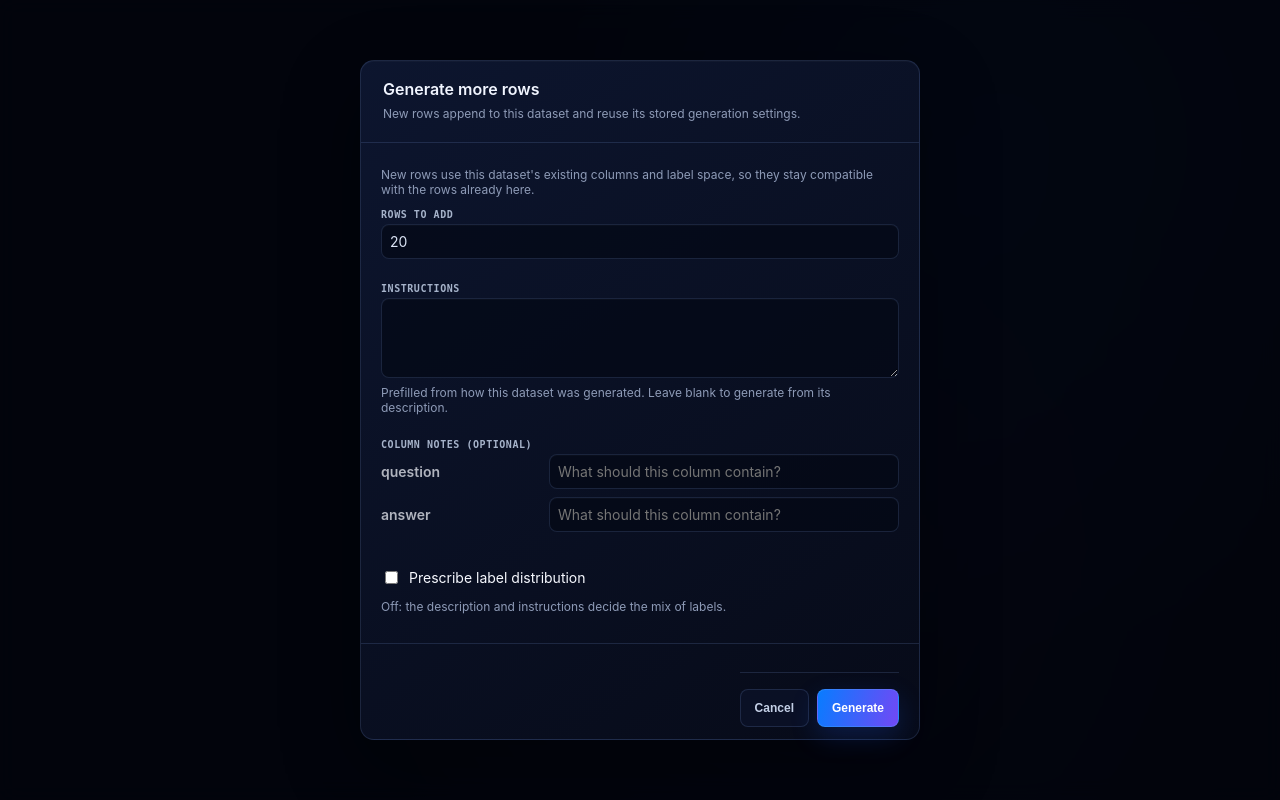
GenerateMoreRows › blocks Generate above the server's cap
Replace the text in the number field labelled "Rows to add" with "51" at (640, 241), box x1=381 y1=224 x2=899 y2=259
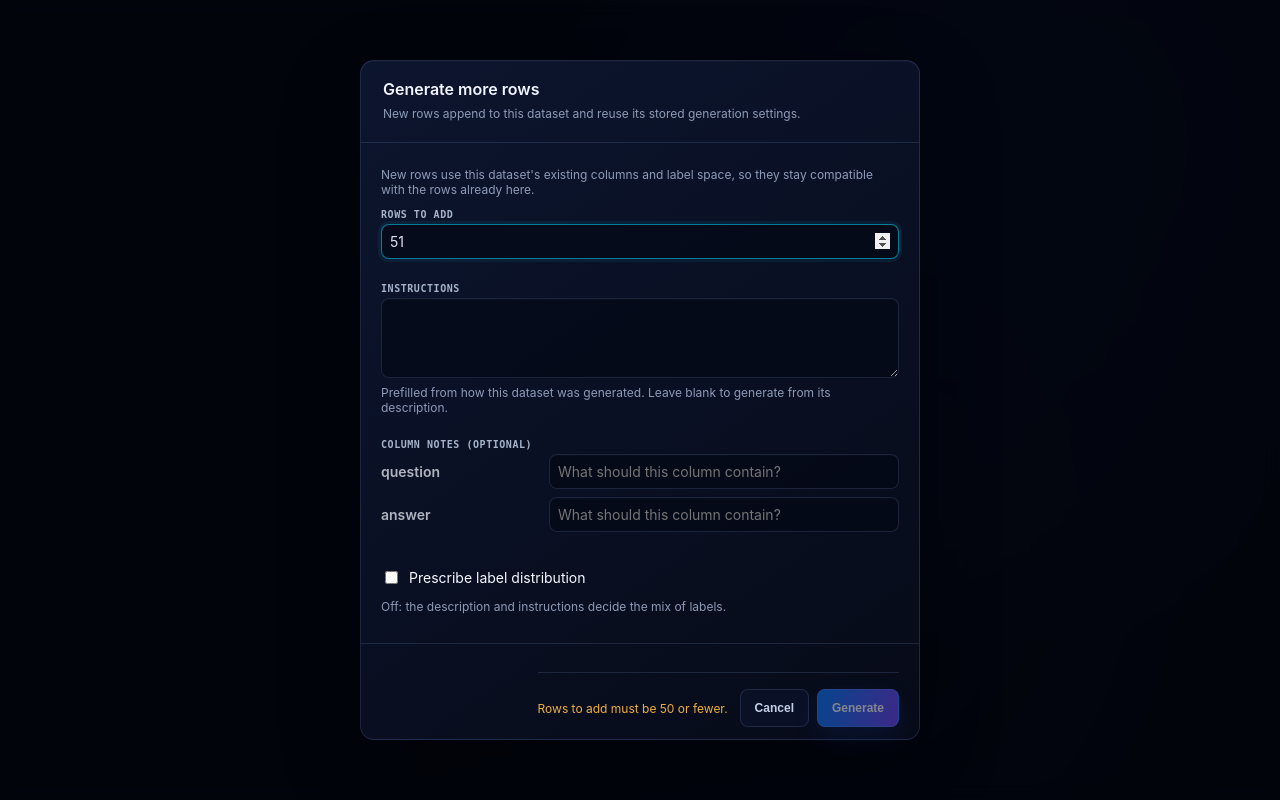
Check: the button "Generate" is disabled, box x1=817 y1=689 x2=899 y2=727
Check: the text "Rows to add must be 50 or fewer." is shown, box x1=538 y1=700 x2=728 y2=716
